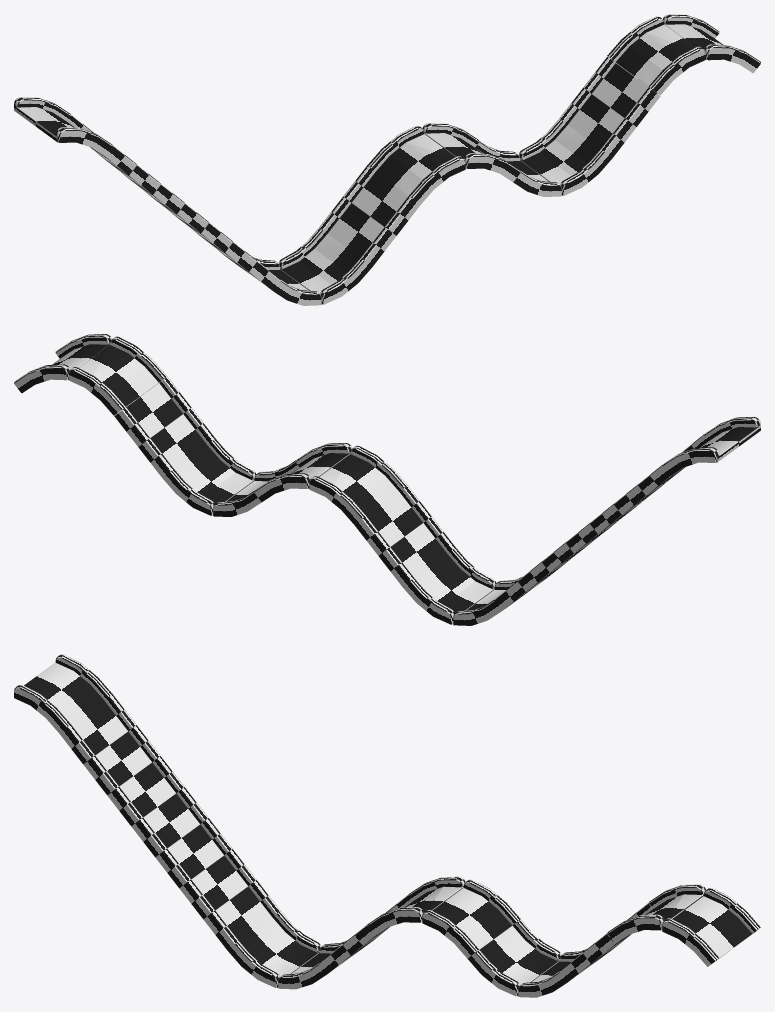
Rendered from slider.obj.
3 renders of one model, top to bottom at view 1: azimuth 30°, elevation 25°; view 2: azimuth 150°, elevation 25°; view 3: azimuth 330°, elevation 25°, orthographic.
Visible parts, largest first — view 1: Slide.020_Slide.003, Slide.013_Slide.003, Slide.009, Slide.017_Slide.001, Slide.010_Slide.008, Slide.011_Slide.002, Slide.018_Slide.002, Slide.019_Slide.002, Slide.002_Slide.007, Slide.012_Slide.003, Slide.015_Slide.003, Slide.014_Slide.001 (+8 smaller); view 2: Slide.020_Slide.003, Slide.013_Slide.003, Slide.009, Slide.017_Slide.001, Slide.010_Slide.008, Slide.011_Slide.002, Slide.018_Slide.002, Slide.019_Slide.002, Slide.002_Slide.007, Slide.012_Slide.003, Slide.015_Slide.003, Slide.014_Slide.001 (+8 smaller); view 3: Slide.015_Slide.003, Slide.002_Slide.007, Slide.012_Slide.003, Slide.014_Slide.001, Slide_Slide.009, Slide.001_Slide.008, Slide.003_Slide.008, Slide.004_Slide.008, Slide.005_Slide.008, Slide.008, Slide.006_Slide.008, Slide.007_Slide.008 (+6 smaller).
Part boxes in pixels (x1=…): Slide.020_Slide.003: x1=607, y1=16, x2=705, y2=95; Slide.013_Slide.003: x1=367, y1=125, x2=465, y2=204; Slide.009: x1=278, y1=227, x2=372, y2=304; Slide.017_Slide.001: x1=518, y1=118, x2=612, y2=195; Slide.010_Slide.008: x1=319, y1=196, x2=396, y2=266; Slide.011_Slide.002: x1=343, y1=165, x2=420, y2=235; Slide.018_Slide.002: x1=559, y1=87, x2=636, y2=157; Slide.019_Slide.002: x1=583, y1=56, x2=660, y2=126; Slide.002_Slide.007: x1=14, y1=97, x2=112, y2=155; Slide.012_Slide.003: x1=422, y1=123, x2=520, y2=181; Slide.015_Slide.003: x1=663, y1=14, x2=760, y2=73; Slide.014_Slide.001: x1=475, y1=140, x2=561, y2=196; Slide.020_Slide.003: x1=68, y1=336, x2=166, y2=415; Slide.013_Slide.003: x1=309, y1=445, x2=407, y2=524; Slide.009: x1=402, y1=547, x2=496, y2=624; Slide.017_Slide.001: x1=162, y1=438, x2=256, y2=515; Slide.010_Slide.008: x1=378, y1=516, x2=455, y2=586; Slide.011_Slide.002: x1=354, y1=485, x2=431, y2=555; Slide.018_Slide.002: x1=138, y1=407, x2=215, y2=477; Slide.019_Slide.002: x1=114, y1=376, x2=191, y2=446; Slide.002_Slide.007: x1=662, y1=417, x2=760, y2=475; Slide.012_Slide.003: x1=254, y1=443, x2=352, y2=501; Slide.015_Slide.003: x1=14, y1=334, x2=111, y2=393; Slide.014_Slide.001: x1=213, y1=460, x2=299, y2=516; Slide.015_Slide.003: x1=662, y1=888, x2=760, y2=966; Slide.002_Slide.007: x1=14, y1=654, x2=112, y2=733; Slide.012_Slide.003: x1=422, y1=879, x2=520, y2=958; Slide.014_Slide.001: x1=468, y1=919, x2=561, y2=996; Slide_Slide.009: x1=227, y1=911, x2=321, y2=987; Slide.001_Slide.008: x1=83, y1=725, x2=160, y2=795; Slide.003_Slide.008: x1=59, y1=694, x2=136, y2=764; Slide.004_Slide.008: x1=107, y1=756, x2=184, y2=826; Slide.005_Slide.008: x1=131, y1=787, x2=208, y2=857; Slide.008: x1=203, y1=880, x2=280, y2=950; Slide.006_Slide.008: x1=155, y1=818, x2=232, y2=888; Slide.007_Slide.008: x1=179, y1=849, x2=256, y2=919.
Bounding box in the file's own units: 29.28 × 9.48 × 3.32.
2 materials, 2 textured.
